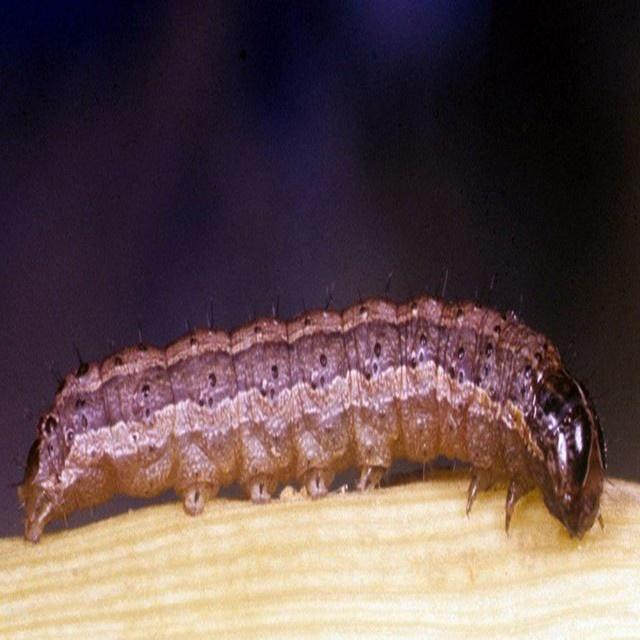gusano_cogollero: (12, 270, 614, 545)
